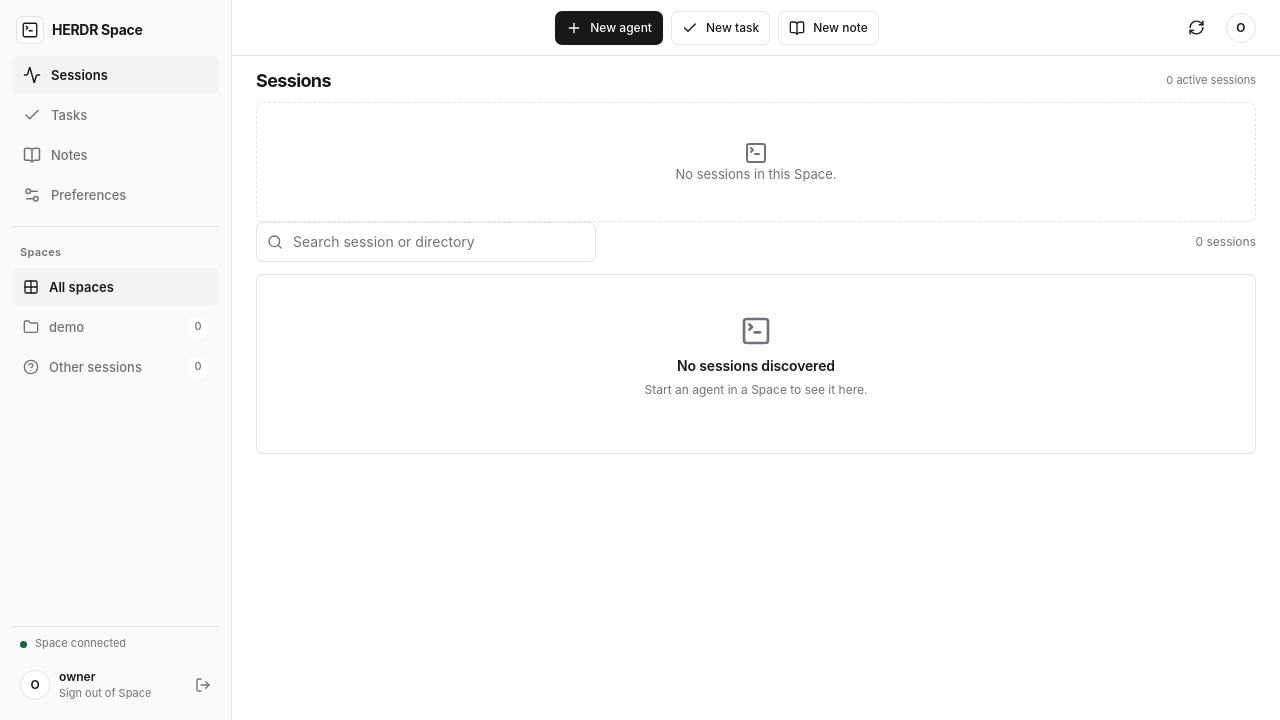
it: disables agent launch when a native Space has no available directory
Click the button "New agent" at (609, 28), box [555,10,663,44]
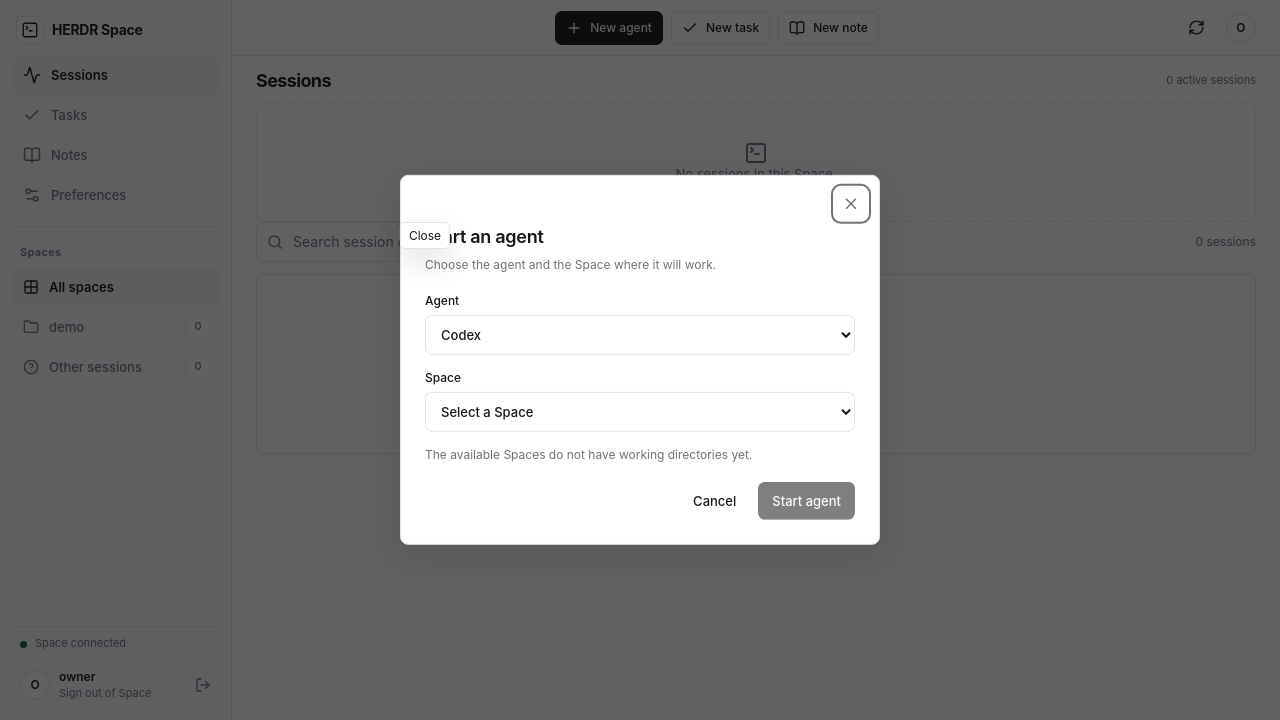
Expected: the text "The available Spaces do not have working directories yet." is shown, [425,447,752,462]
Expected: the button "Start agent" is disabled, [758,482,855,520]
